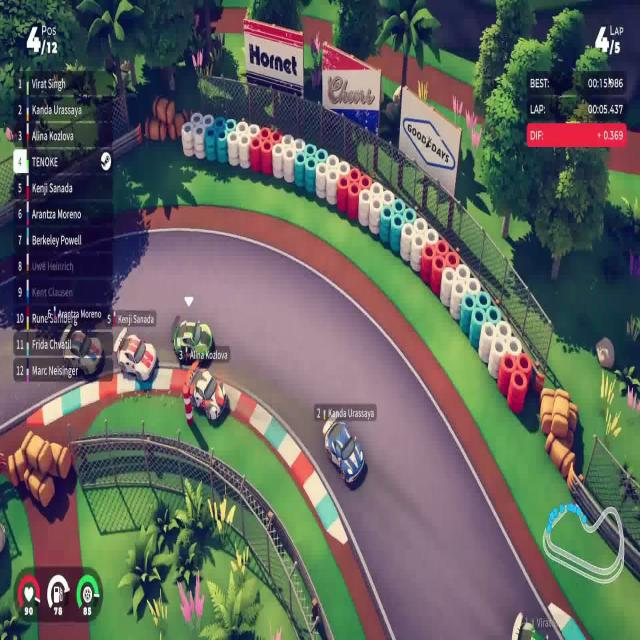car: (322, 417, 365, 485), (113, 328, 157, 383), (190, 366, 228, 424), (172, 318, 215, 366)
